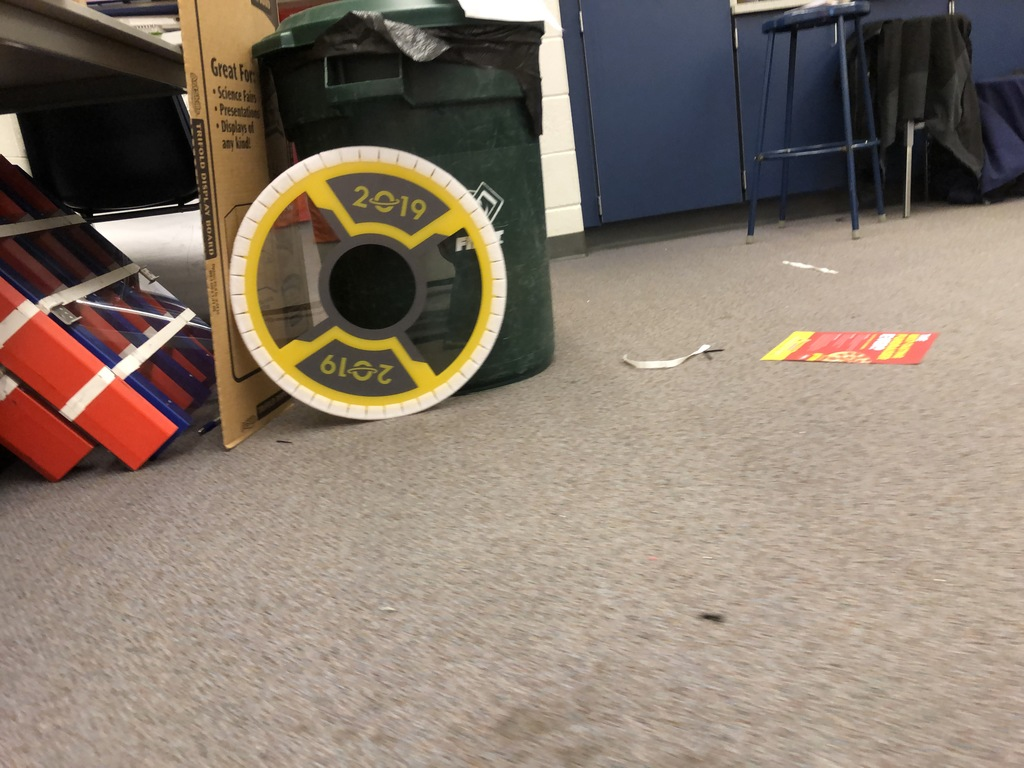hatch_panel: (216, 136, 528, 450)
